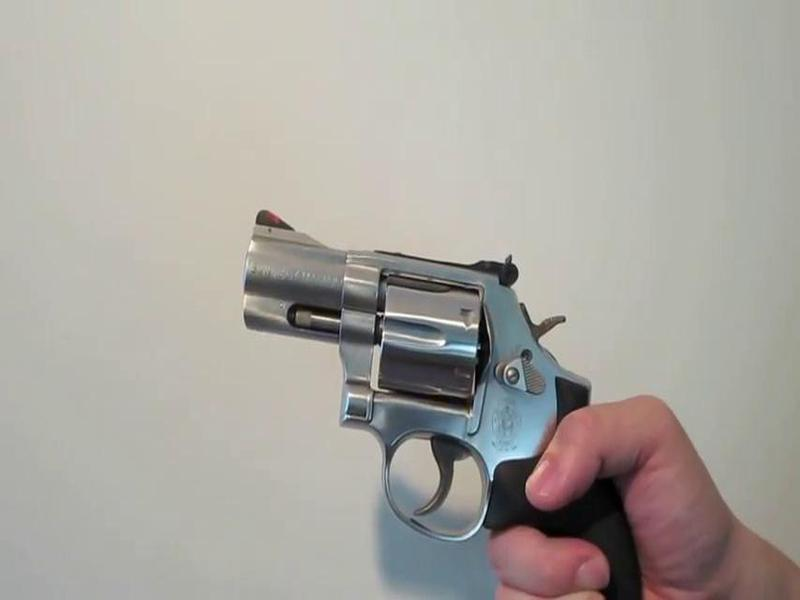Revolver: (228, 168, 649, 563)
